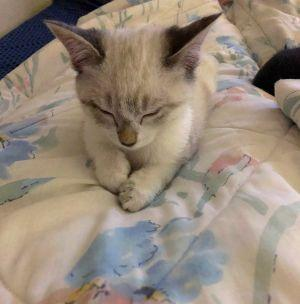siamese: (47, 1, 221, 168)
